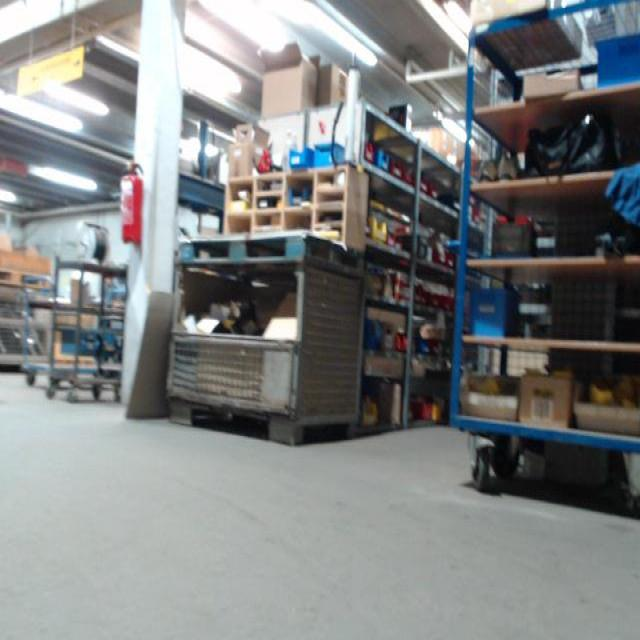pallet: (0, 267, 53, 292)
small_load_carrier: (589, 28, 636, 90), (468, 288, 515, 338)
stillage: (164, 251, 377, 448)
